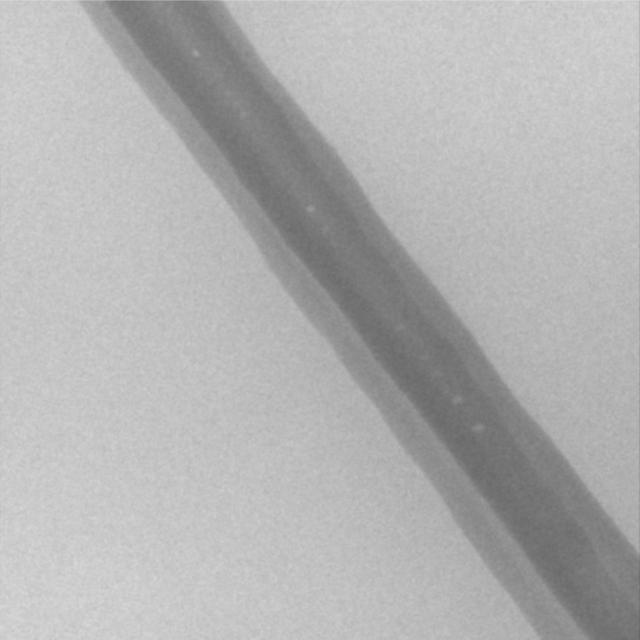air hole: (452, 394, 462, 405), (190, 48, 199, 59), (304, 204, 315, 213), (473, 424, 484, 432)
